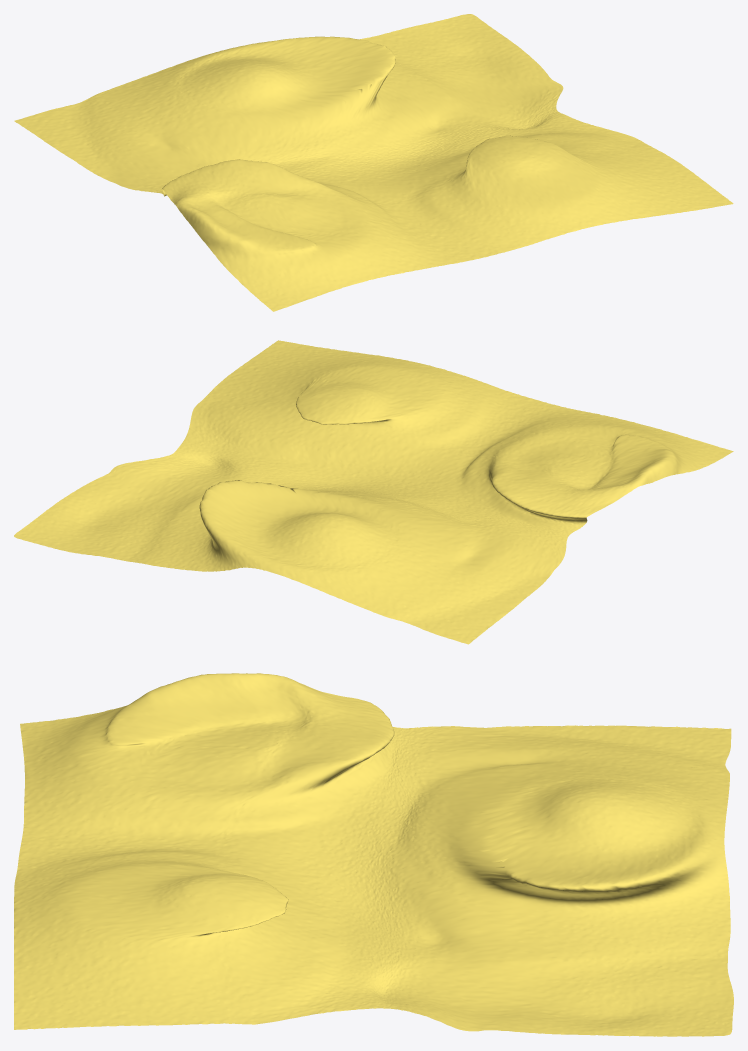
The model's file is TestTerrain.obj.
3 views of the same model, one above another, from view 1: azimuth 30°, elevation 25°; view 2: azimuth 150°, elevation 25°; view 3: azimuth 270°, elevation 25° (orthographic). The views are drawn at different scales.
Parts seen in each view (by area): view 1: Plane; view 2: Plane; view 3: Plane.
Boxes of the visible parts, bbox=[...] form: Plane: bbox=[14, 14, 733, 311]; Plane: bbox=[14, 340, 733, 644]; Plane: bbox=[14, 673, 733, 1036].
Bounding box in the file's own units: 354 × 36.33 × 349.
